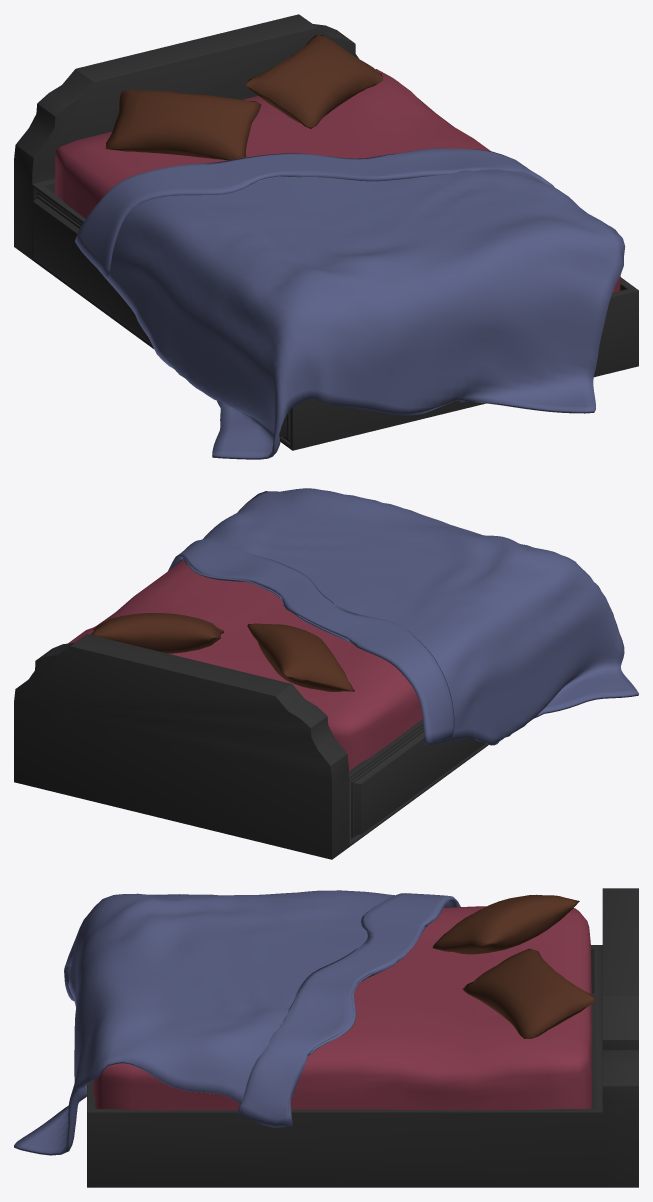
Rendered from Cama.fbx.
The picture shows the model from 3 angles, top to bottom: view 1: azimuth 30°, elevation 25°; view 2: azimuth 150°, elevation 25°; view 3: azimuth 270°, elevation 25°; orthographic projection. The views are drawn at different scales.
Parts seen in each view (by area): view 1: Almohada2; view 2: Almohada2; view 3: Almohada2.
Part boxes in pixels (x1,y1,x2,y2): Almohada2: (14,14,638,459); Almohada2: (14,488,638,859); Almohada2: (14,888,638,1187).
Bounding box in the file's own units: 175 × 65.64 × 221.
